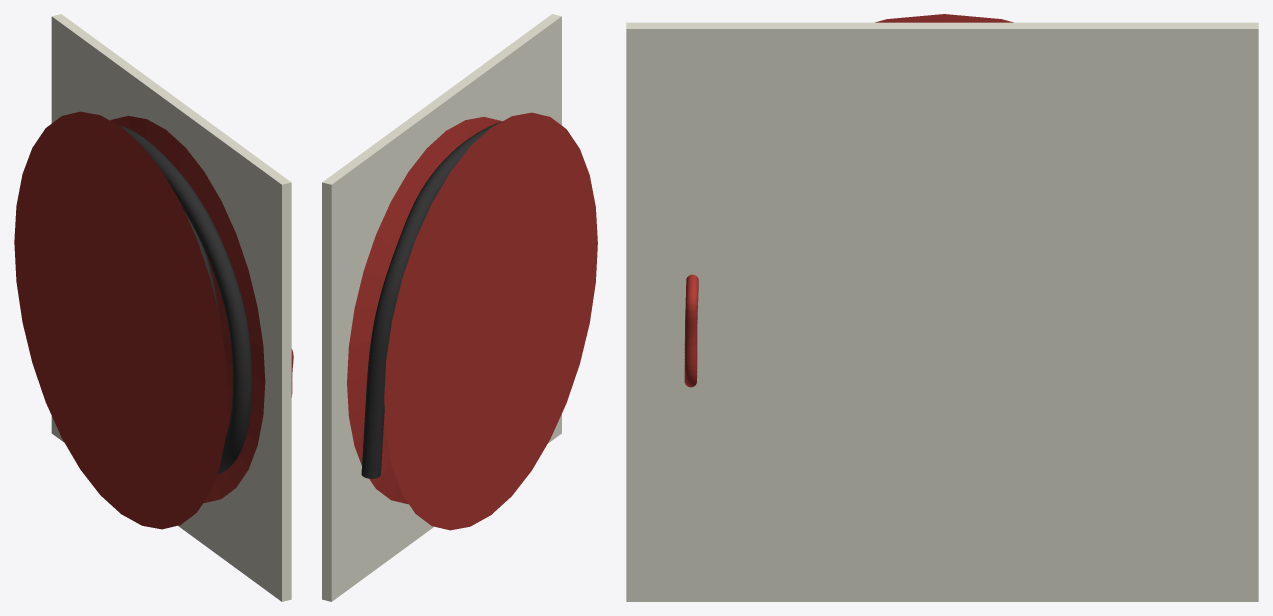
Rendered from Brandslange.fbx.
3 views of the same model, side by side, from view 1: azimuth 30°, elevation 25°; view 2: azimuth 150°, elevation 25°; view 3: azimuth 270°, elevation 25° (orthographic). The views are drawn at different scales.
Visible parts, largest first — view 1: Cylinder, Cube, Circle; view 2: Cylinder, Cube, Circle; view 3: Cube, Circle.001, Cylinder.
Part boxes in pixels (<box>): Cylinder: <box>14,111,265,529</box>; Cube: <box>51,14,291,601</box>; Circle: <box>118,125,252,474</box>; Cylinder: <box>347,112,597,530</box>; Cube: <box>322,14,561,601</box>; Circle: <box>361,121,502,478</box>; Cube: <box>626,22,1258,601</box>; Circle.001: <box>684,274,698,387</box>; Cylinder: <box>875,14,1013,22</box>.
Size of the model in its own units: 47.19 by 236 by 236.
